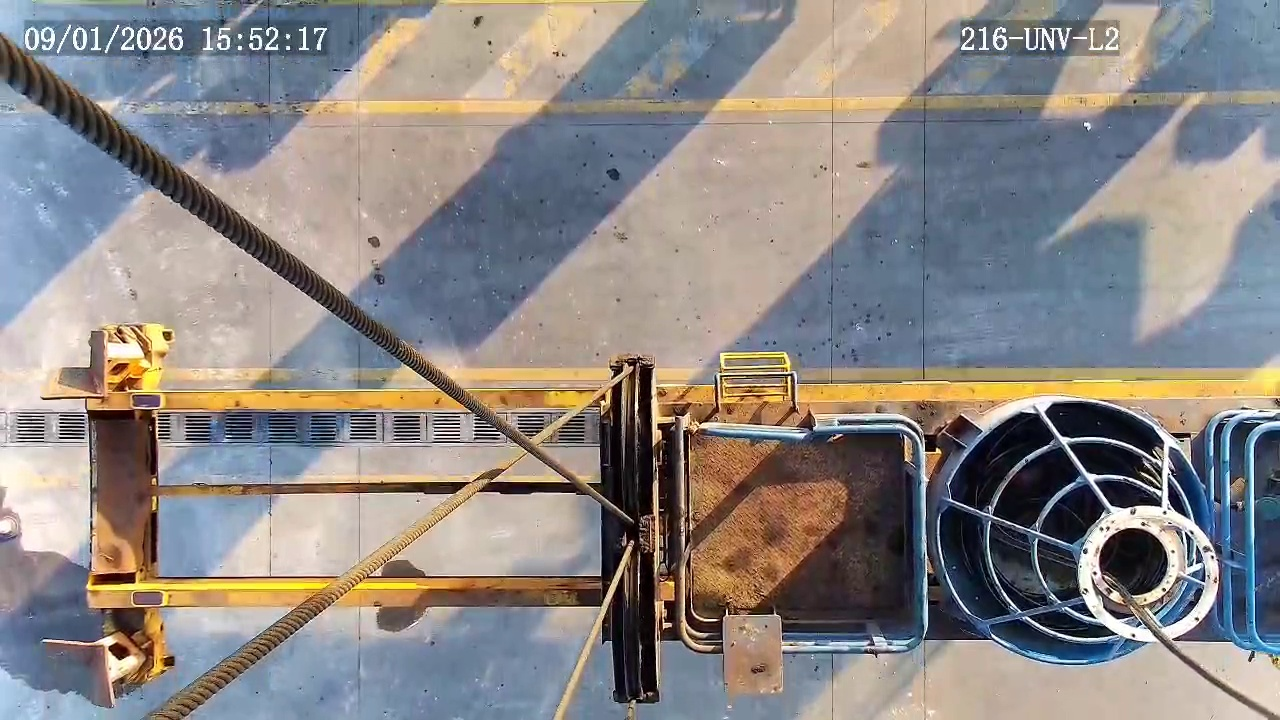left: (939, 401, 1213, 665)
